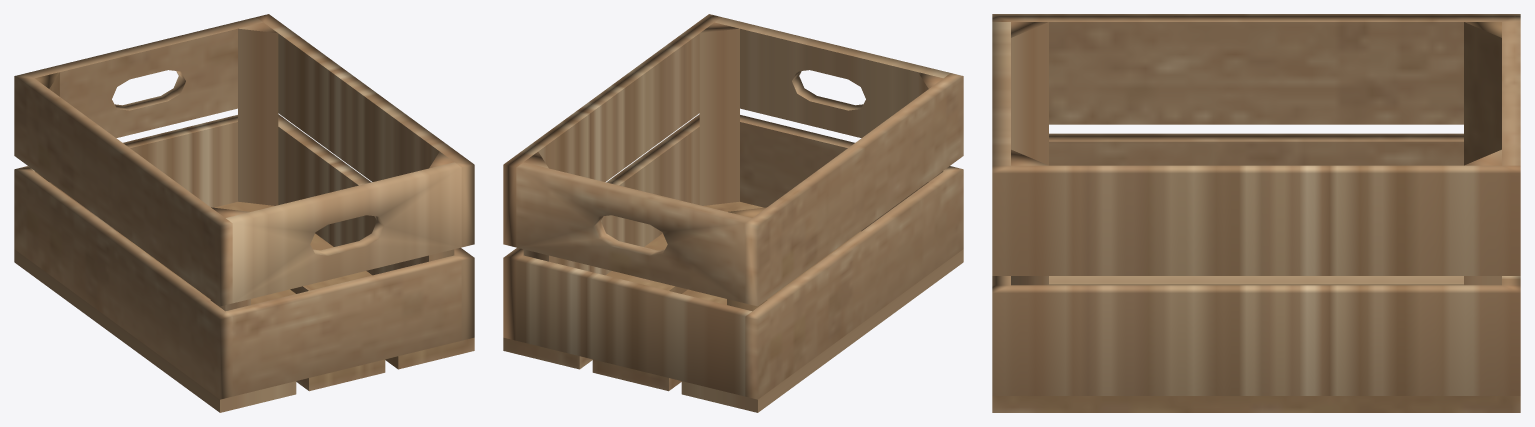
Rendered from objects_un_t03woodenbox01.gltf.
The picture shows the model from 3 angles, left to right: view 1: azimuth 30°, elevation 25°; view 2: azimuth 150°, elevation 25°; view 3: azimuth 270°, elevation 25°; orthographic projection. The views are drawn at different scales.
Visible parts, largest first — view 1: objects_un_t03woodenbox01_mesh_shape:objects_un_t03woodenbox; view 2: objects_un_t03woodenbox01_mesh_shape:objects_un_t03woodenbox; view 3: objects_un_t03woodenbox01_mesh_shape:objects_un_t03woodenbox.
Boxes of the visible parts, bbox=[...] form: objects_un_t03woodenbox01_mesh_shape:objects_un_t03woodenbox: bbox=[14, 14, 474, 412]; objects_un_t03woodenbox01_mesh_shape:objects_un_t03woodenbox: bbox=[503, 14, 963, 412]; objects_un_t03woodenbox01_mesh_shape:objects_un_t03woodenbox: bbox=[992, 14, 1520, 412].
Size of what is drawn, in the model's own units: 0.5 by 0.35 by 0.7.
Materials: 1 (1 with a texture image).
